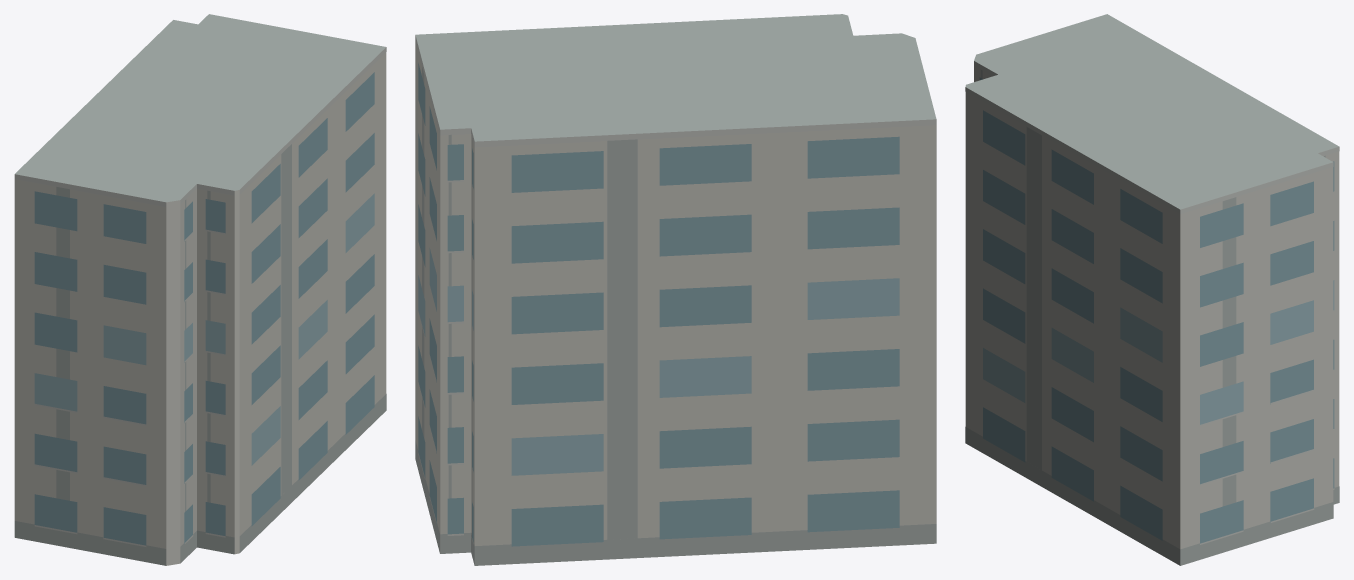
File: survey-upis-32819811.glb
3 views of the same model, side by side, from view 1: azimuth 30°, elevation 25°; view 2: azimuth 150°, elevation 25°; view 3: azimuth 270°, elevation 25° (orthographic). The views are drawn at different scales.
Visible parts, largest first — view 1: survey-upis-32819811.tmp; view 2: survey-upis-32819811.tmp; view 3: survey-upis-32819811.tmp.
Part boxes in pixels (x1,y1,x2,y2): survey-upis-32819811.tmp: [14, 14, 386, 565]; survey-upis-32819811.tmp: [415, 14, 936, 565]; survey-upis-32819811.tmp: [965, 14, 1339, 565].
Bounding box in the file's own units: 21.56 × 18.3 × 17.42.
